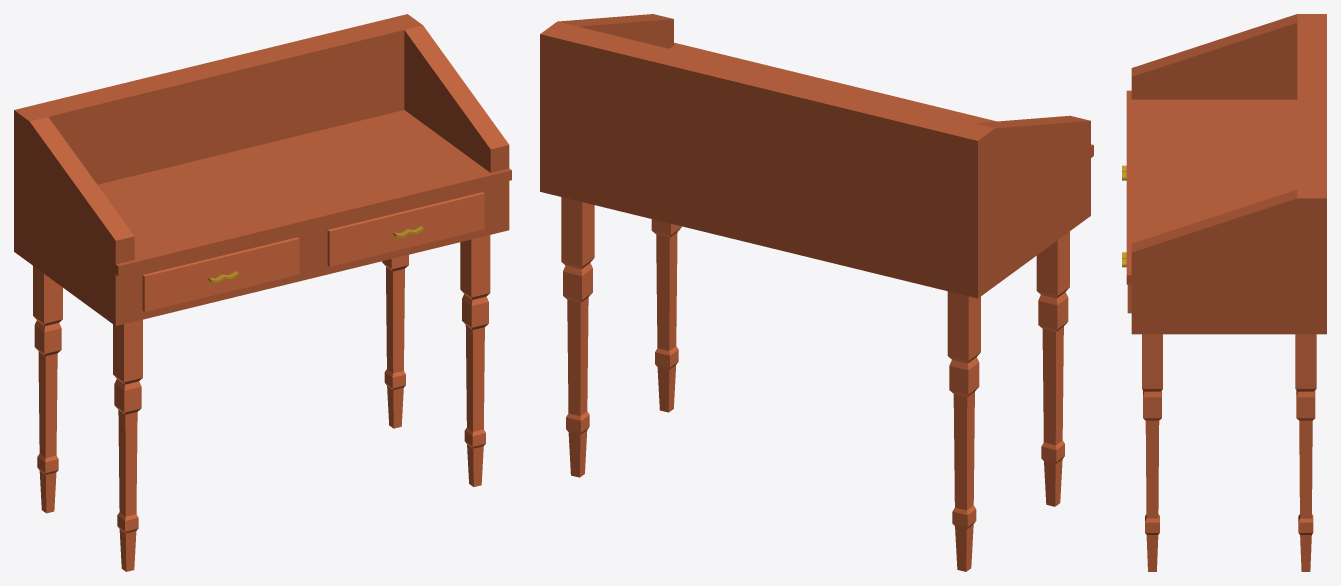
Rendered from desk.fbx.
The picture shows the model from 3 angles, left to right: view 1: azimuth 30°, elevation 25°; view 2: azimuth 150°, elevation 25°; view 3: azimuth 270°, elevation 25°; orthographic projection. The views are drawn at different scales.
Visible parts, largest first — view 1: Desk; view 2: Desk; view 3: Desk.
Boxes of the visible parts, <box> form: Desk: <box>14,14,511,571</box>; Desk: <box>540,14,1093,571</box>; Desk: <box>1122,14,1326,571</box>.
Bounding box in the file's own units: 200 × 93.88 × 193.
